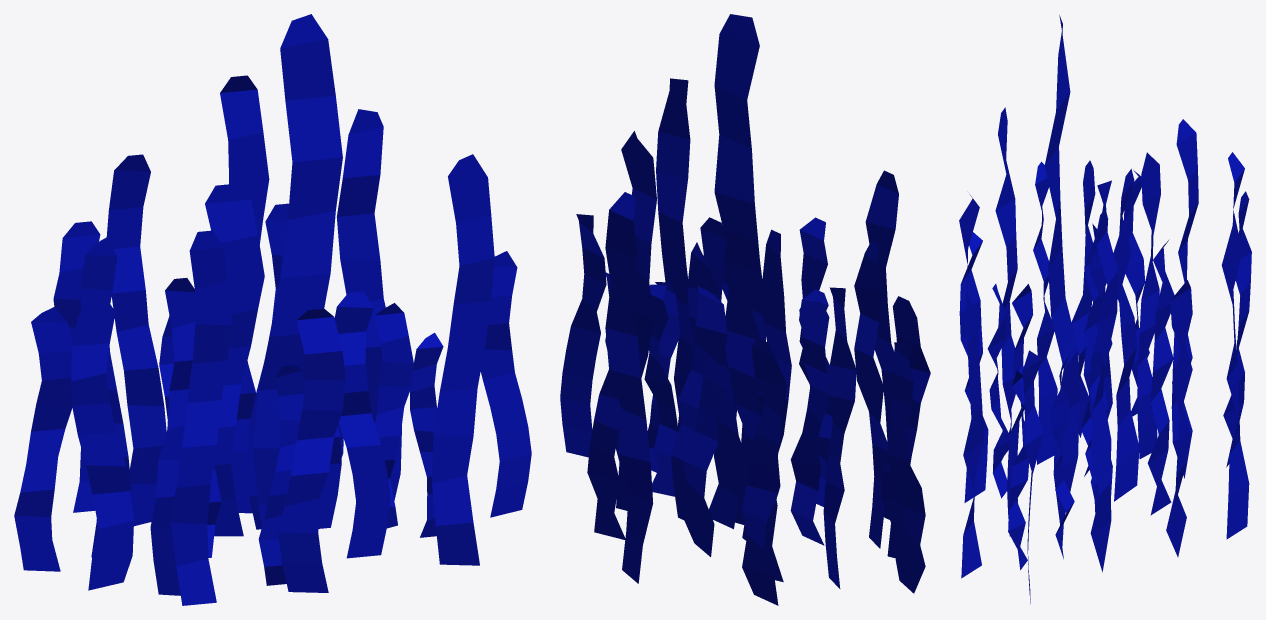
The model's file is propKelp1C.fbx.
The picture shows the model from 3 angles, left to right: view 1: azimuth 30°, elevation 25°; view 2: azimuth 150°, elevation 25°; view 3: azimuth 270°, elevation 25°; orthographic projection. The views are drawn at different scales.
Parts seen in each view (by area): view 1: Kelp1C; view 2: Kelp1C; view 3: Kelp1C.
Boxes of the visible parts, x1=… form: Kelp1C: x1=14, y1=14, x2=531, y2=605; Kelp1C: x1=560, y1=14, x2=930, y2=605; Kelp1C: x1=959, y1=15, x2=1251, y2=603.
Size of the model in its own units: 288 by 332 by 174.
